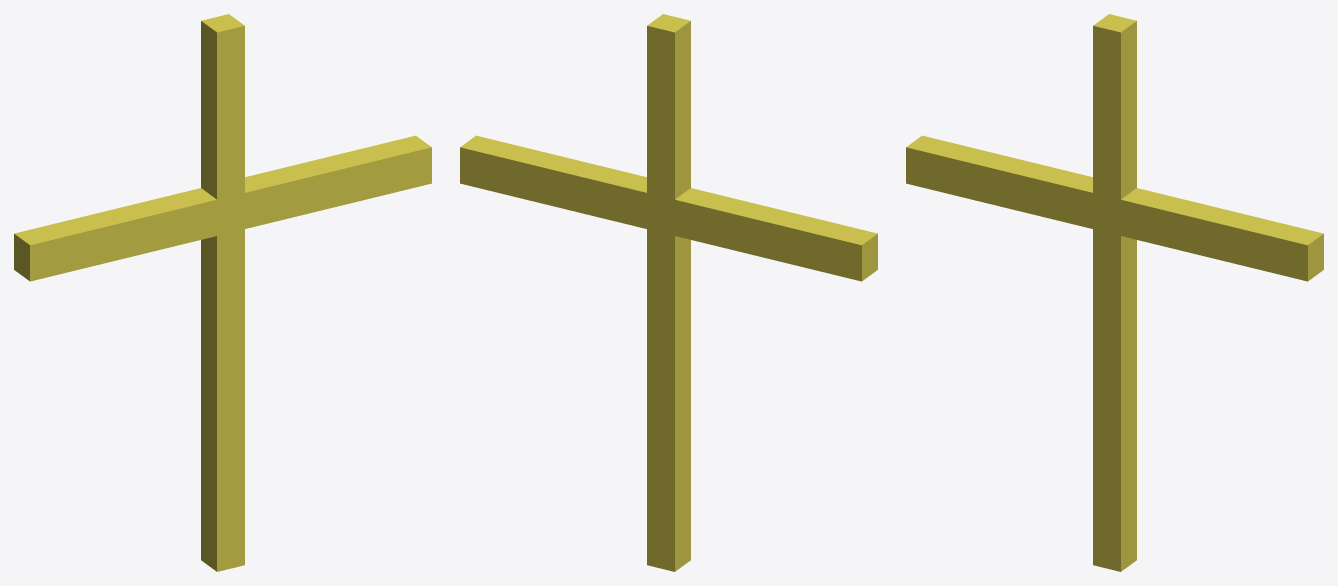
The model's file is Model_krzyz.fbx.
3 renders of one model, left to right at view 1: azimuth 30°, elevation 25°; view 2: azimuth 150°, elevation 25°; view 3: azimuth 330°, elevation 25°, orthographic.
Parts seen in each view (by area): view 1: Mesh_krzyz; view 2: Mesh_krzyz; view 3: Mesh_krzyz.
Boxes of the visible parts, left/top/right/bottom form: Mesh_krzyz: left=14, top=14, right=431, bottom=571; Mesh_krzyz: left=460, top=14, right=877, bottom=571; Mesh_krzyz: left=906, top=14, right=1323, bottom=571.
Bounding box in the file's own units: 15.76 × 292 × 228.
